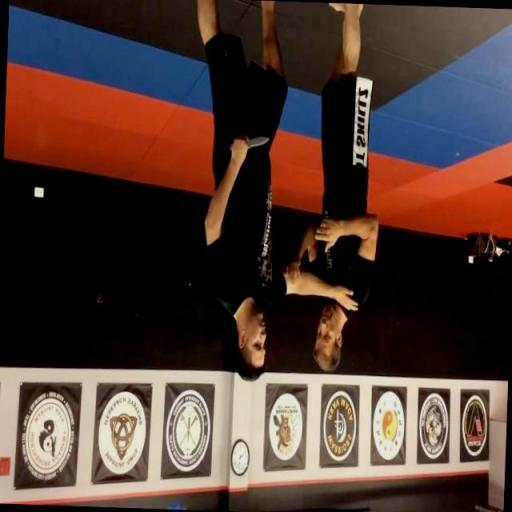knife: (229, 134, 269, 153)
